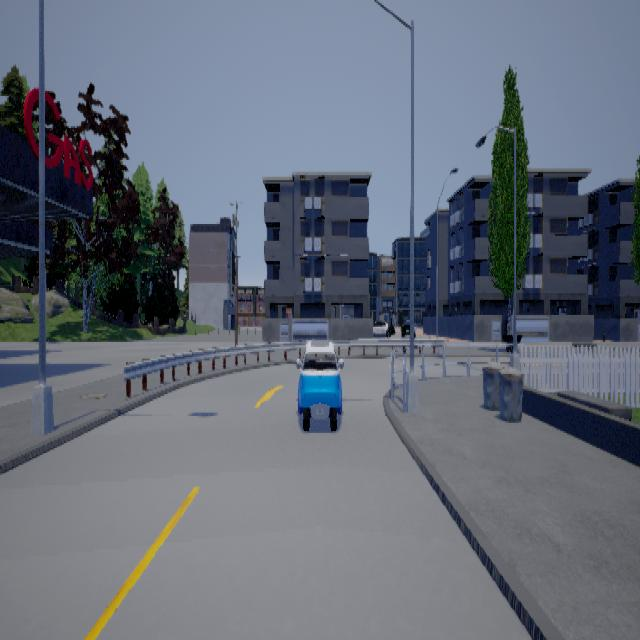vehicle: (295, 338, 345, 429)
